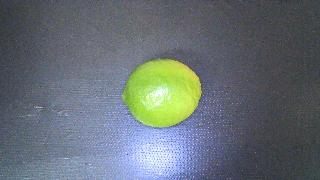EXPORTACION: (122, 59, 202, 127)
